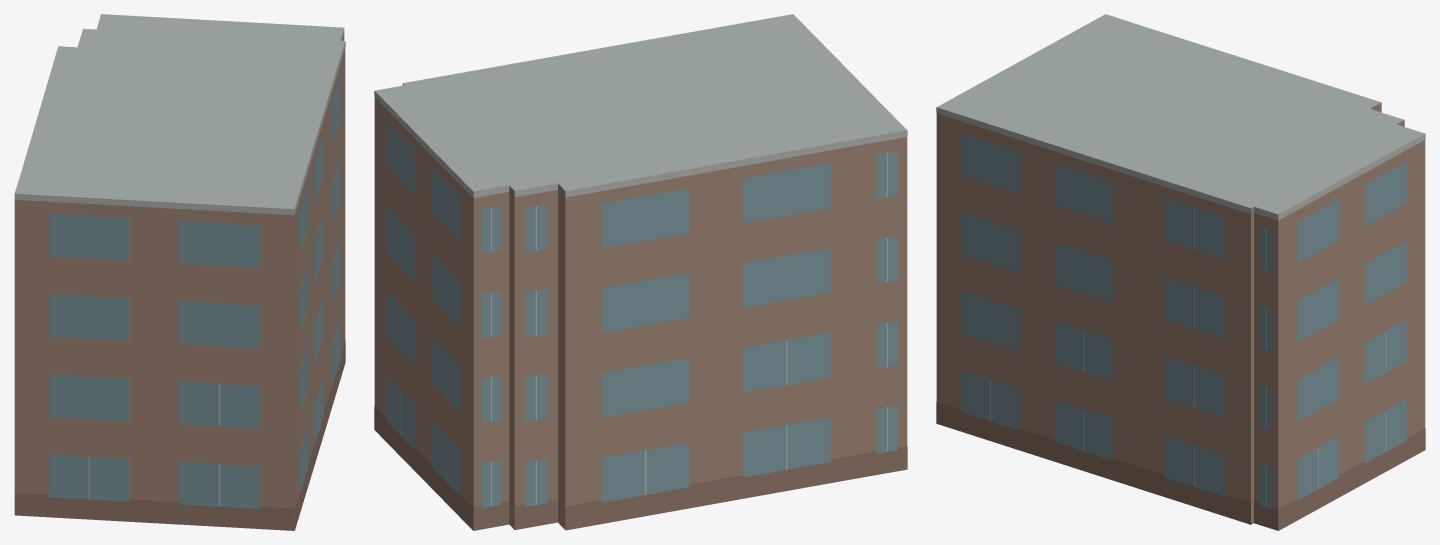
The model's file is survey-upis-32631389.glb.
3 views of the same model, side by side, from view 1: azimuth 30°, elevation 25°; view 2: azimuth 150°, elevation 25°; view 3: azimuth 270°, elevation 25° (orthographic). The views are drawn at different scales.
Parts seen in each view (by area): view 1: survey-upis-32631389.tmp; view 2: survey-upis-32631389.tmp; view 3: survey-upis-32631389.tmp.
Part boxes in pixels (left/top/right/bottom): survey-upis-32631389.tmp: left=14, top=14, right=345, bottom=530; survey-upis-32631389.tmp: left=374, top=14, right=907, bottom=530; survey-upis-32631389.tmp: left=936, top=14, right=1425, bottom=530.
Bounding box in the file's own units: 17.4 × 12.8 × 17.93.
